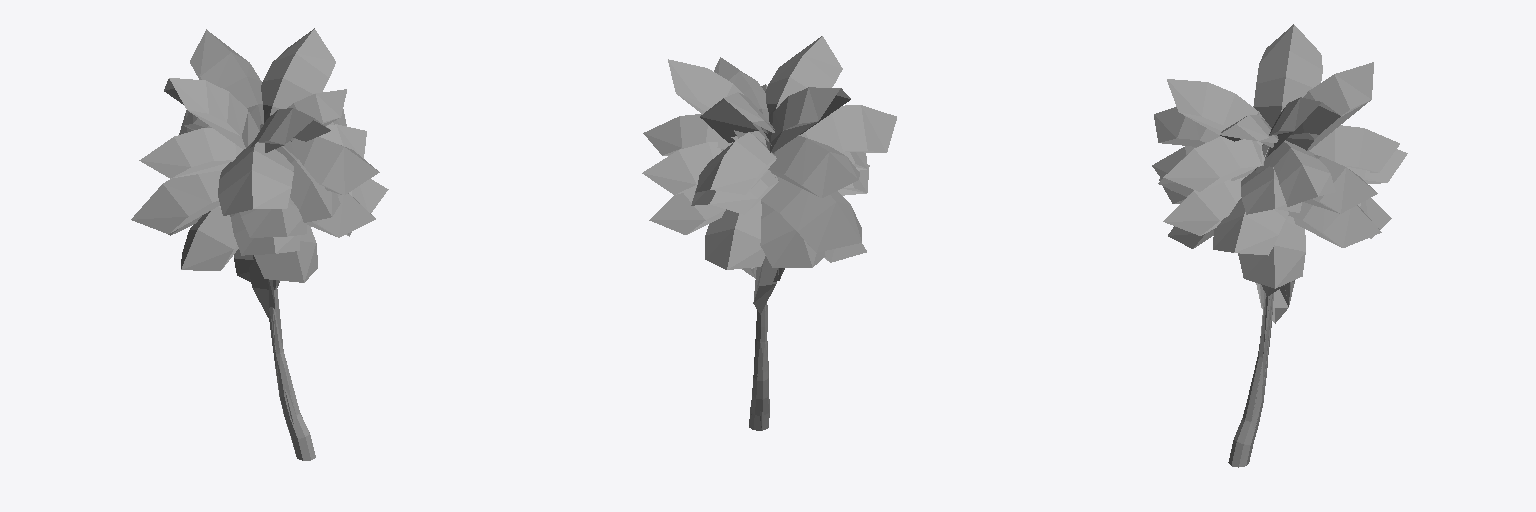
File: Palm03_blender.obj
3 views of the same model, side by side, from view 1: azimuth 30°, elevation 25°; view 2: azimuth 150°, elevation 25°; view 3: azimuth 270°, elevation 25° (orthographic).
Visible parts, largest first — view 1: PalmThree256, PalmThree96, PalmThree128; view 2: PalmThree256, PalmThree96, PalmThree128; view 3: PalmThree256, PalmThree96, PalmThree128.
Boxes of the visible parts, x1=… form: PalmThree256: x1=131, y1=28, x2=377, y2=460; PalmThree96: x1=164, y1=29, x2=388, y2=349; PalmThree128: x1=173, y1=63, x2=348, y2=446; PalmThree256: x1=642, y1=36, x2=885, y2=430; PalmThree96: x1=664, y1=36, x2=896, y2=302; PalmThree128: x1=663, y1=60, x2=865, y2=427; PalmThree256: x1=1152, y1=24, x2=1387, y2=467; PalmThree96: x1=1161, y1=25, x2=1407, y2=351; PalmThree128: x1=1171, y1=101, x2=1384, y2=457.
Size of the model in its own units: 6.04 by 10.15 by 6.12.